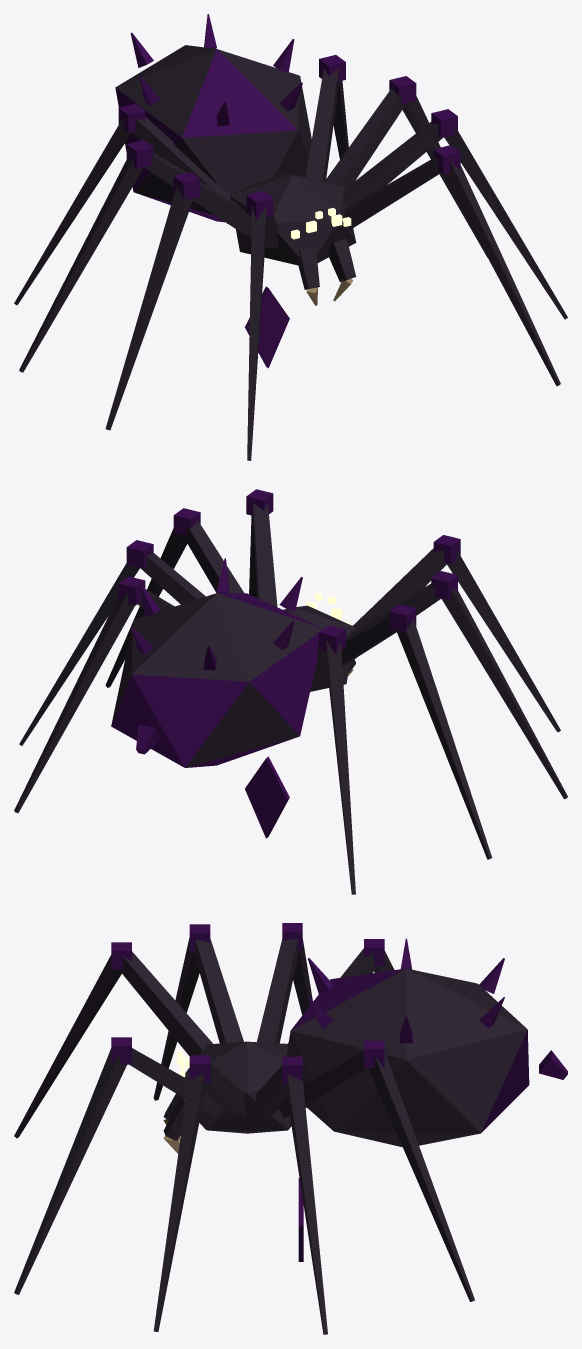
File: AranhaTecela.fbx
The picture shows the model from 3 angles, top to bottom: view 1: azimuth 30°, elevation 25°; view 2: azimuth 150°, elevation 25°; view 3: azimuth 270°, elevation 25°; orthographic projection. The views are drawn at different scales.
Visible parts, largest first — view 1: Body, Leg0, Leg1, Leg5, Leg6, Leg7, Leg2, Leg4, Leg3; view 2: Body, Leg6, Leg4, Leg5, Leg3, Leg2, Leg7, Leg1, Leg0; view 3: Body, Leg4, Leg3, Leg0, Leg1, Leg2, Leg5, Leg6, Leg7.
Boxes of the visible parts, x1=… form: Body: x1=115, y1=14, x2=356, y2=368; Leg0: x1=344, y1=145, x2=560, y2=386; Leg1: x1=344, y1=109, x2=567, y2=319; Leg5: x1=105, y1=172, x2=251, y2=430; Leg6: x1=19, y1=140, x2=239, y2=372; Leg7: x1=14, y1=103, x2=230, y2=305; Leg2: x1=324, y1=76, x2=487, y2=257; Leg4: x1=246, y1=191, x2=278, y2=460; Leg3: x1=305, y1=55, x2=348, y2=181; Body: x1=111, y1=558, x2=355, y2=838; Leg6: x1=341, y1=604, x2=492, y2=859; Leg4: x1=353, y1=535, x2=560, y2=732; Leg5: x1=346, y1=571, x2=567, y2=799; Leg3: x1=14, y1=576, x2=174, y2=812; Leg2: x1=19, y1=540, x2=205, y2=745; Leg7: x1=312, y1=625, x2=355, y2=894; Leg1: x1=105, y1=508, x2=244, y2=687; Leg0: x1=246, y1=489, x2=277, y2=607; Body: x1=163, y1=938, x2=567, y2=1261; Leg4: x1=14, y1=942, x2=212, y2=1138; Leg3: x1=278, y1=1040, x2=474, y2=1301; Leg0: x1=14, y1=1037, x2=222, y2=1294; Leg1: x1=153, y1=1055, x2=246, y2=1331; Leg2: x1=255, y1=1056, x2=327, y2=1334; Leg5: x1=153, y1=924, x2=243, y2=1100; Leg6: x1=257, y1=923, x2=312, y2=1043; Leg7: x1=287, y1=939, x2=394, y2=1043.
Size of the model in its own units: 2.21 by 1.26 by 2.16.
